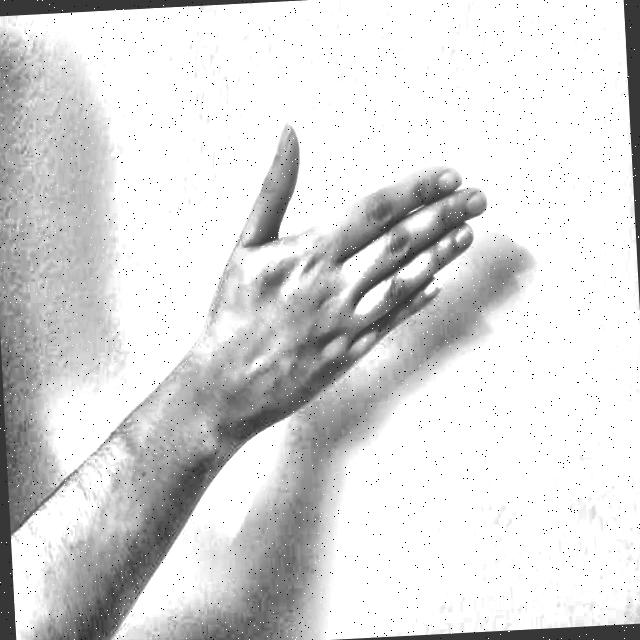Aa: (186, 76, 524, 468)
